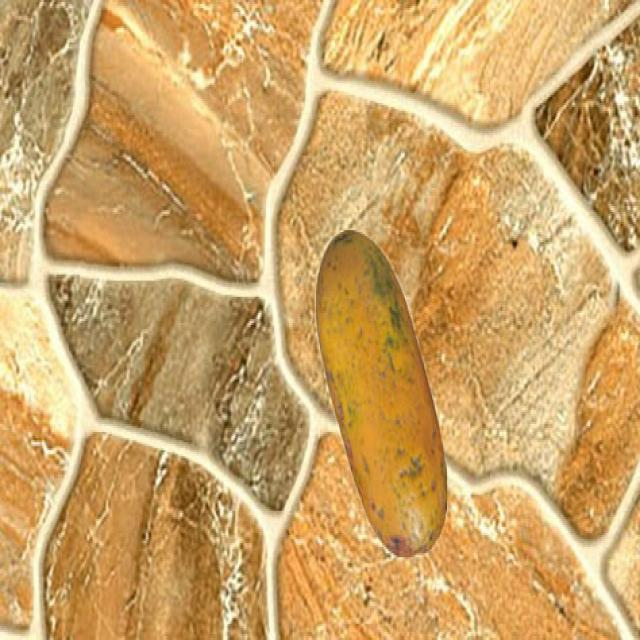Pepaya rippen: (313, 226, 454, 571)
